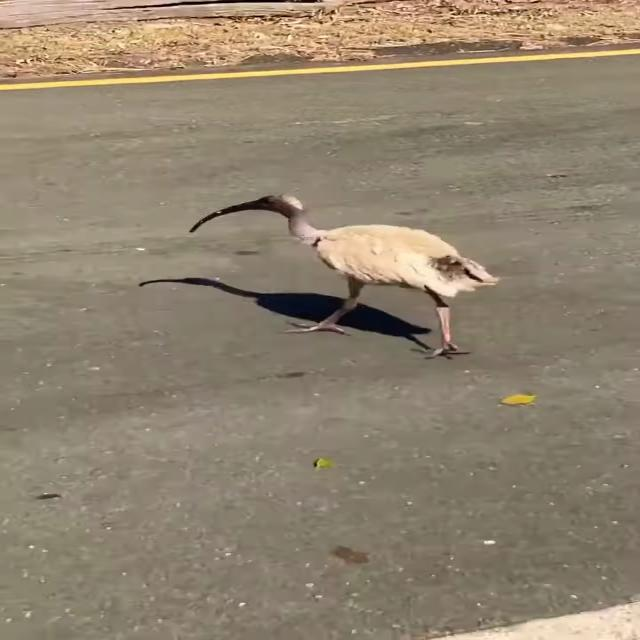Birds-Ibis: (181, 190, 511, 366)
